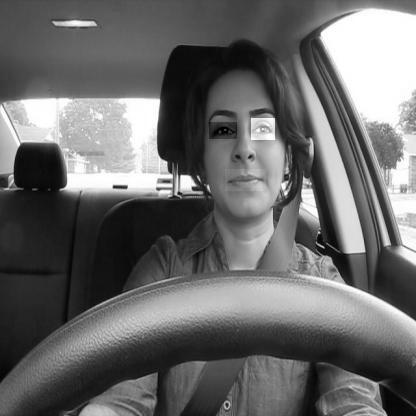seatbelt: (180, 26, 303, 416)
